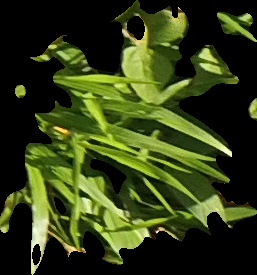grass: (1, 1, 256, 273)
